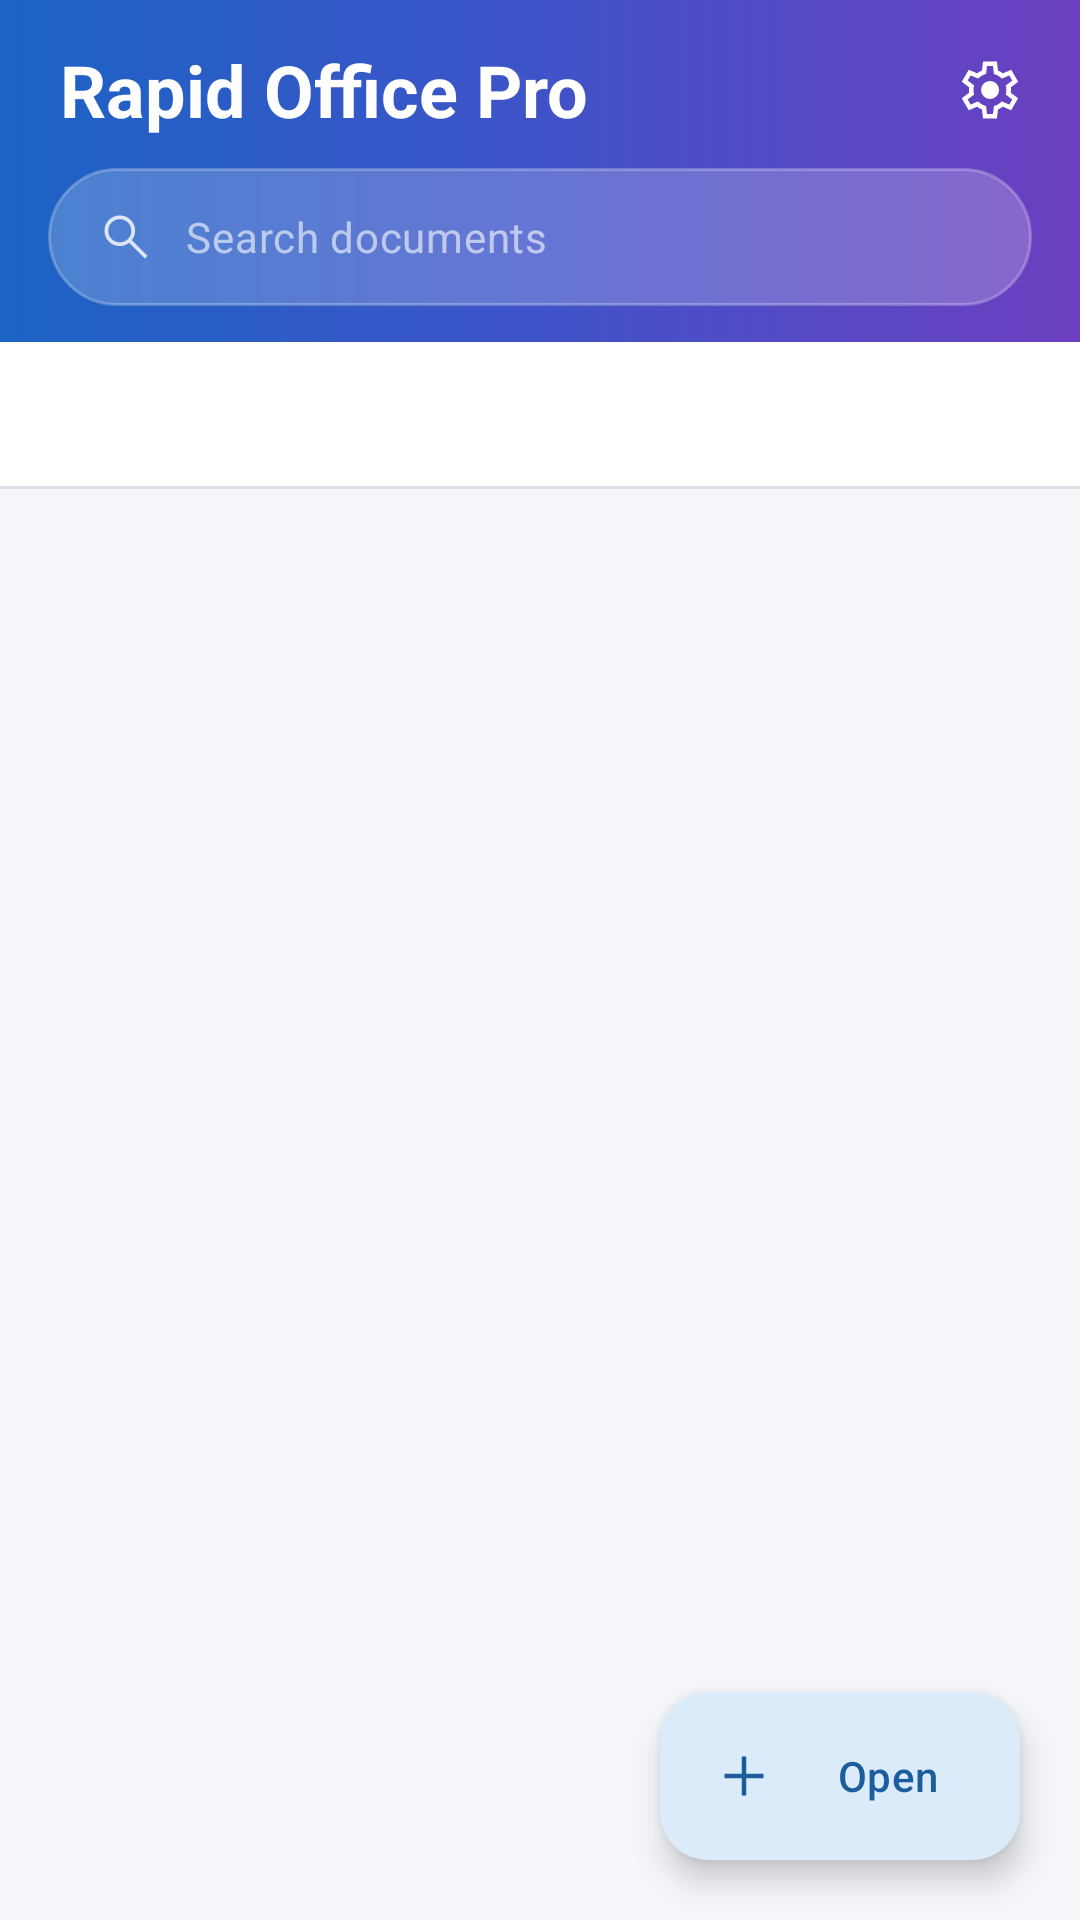

Icon bounding boxes for this 1080w x 1920h phone screenshot, format (x1, y1, x2, y2):
Settings: (962, 61, 1018, 119)
